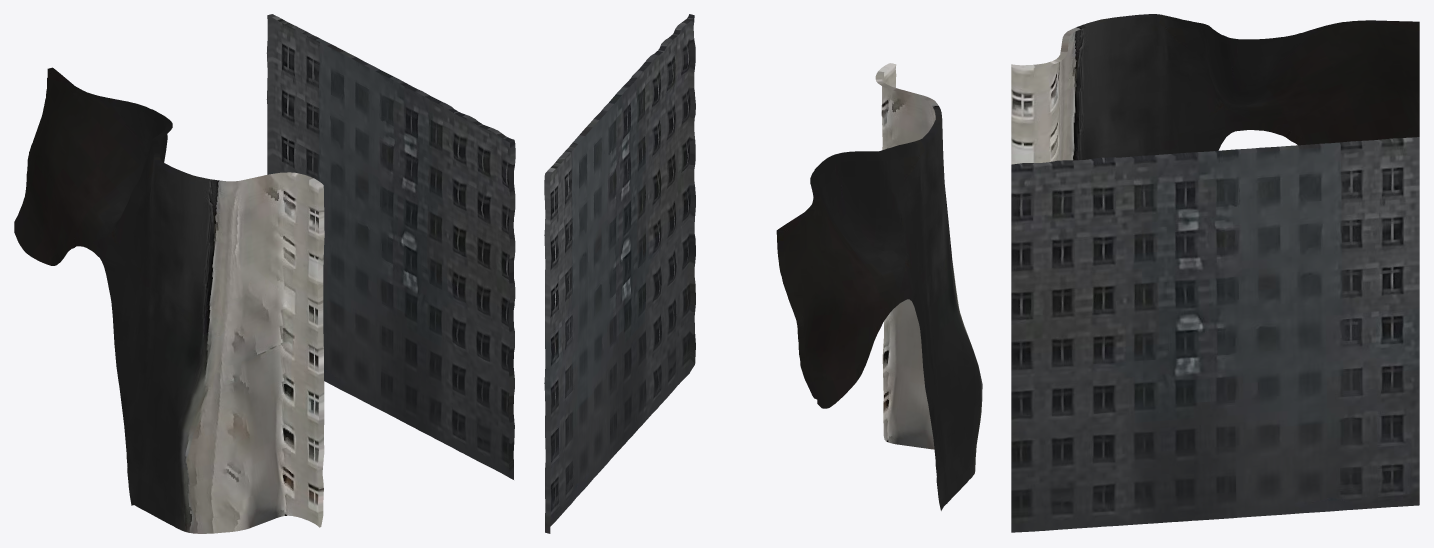
The model's file is z20-167768-405237-h1-yup-uvflip-v3-world.glb.
The picture shows the model from 3 angles, left to right: view 1: azimuth 30°, elevation 25°; view 2: azimuth 150°, elevation 25°; view 3: azimuth 270°, elevation 25°; orthographic projection. The views are drawn at different scales.
Bounding box in the file's own units: 28.8 × 30.24 × 30.32.
1 material, 1 textured.
